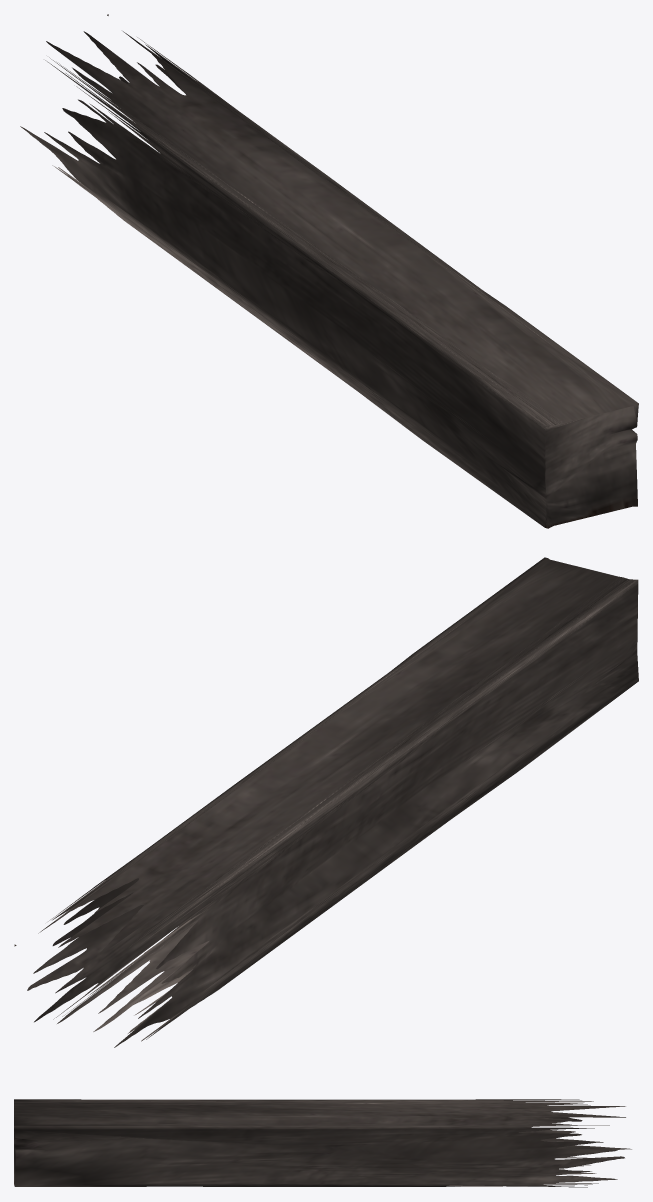
Rendered from wood2.FBX.
3 views of the same model, one above another, from view 1: azimuth 30°, elevation 25°; view 2: azimuth 150°, elevation 25°; view 3: azimuth 270°, elevation 25° (orthographic). The views are drawn at different scales.
Visible parts, largest first — view 1: Group62658; view 2: Group62658; view 3: Group62658.
Part boxes in pixels (x1,y1,x2,y2): Group62658: (20, 14, 638, 528); Group62658: (14, 557, 638, 1047); Group62658: (14, 1099, 631, 1187).
Size of the model in its own units: 58.63 by 61.32 by 566.
